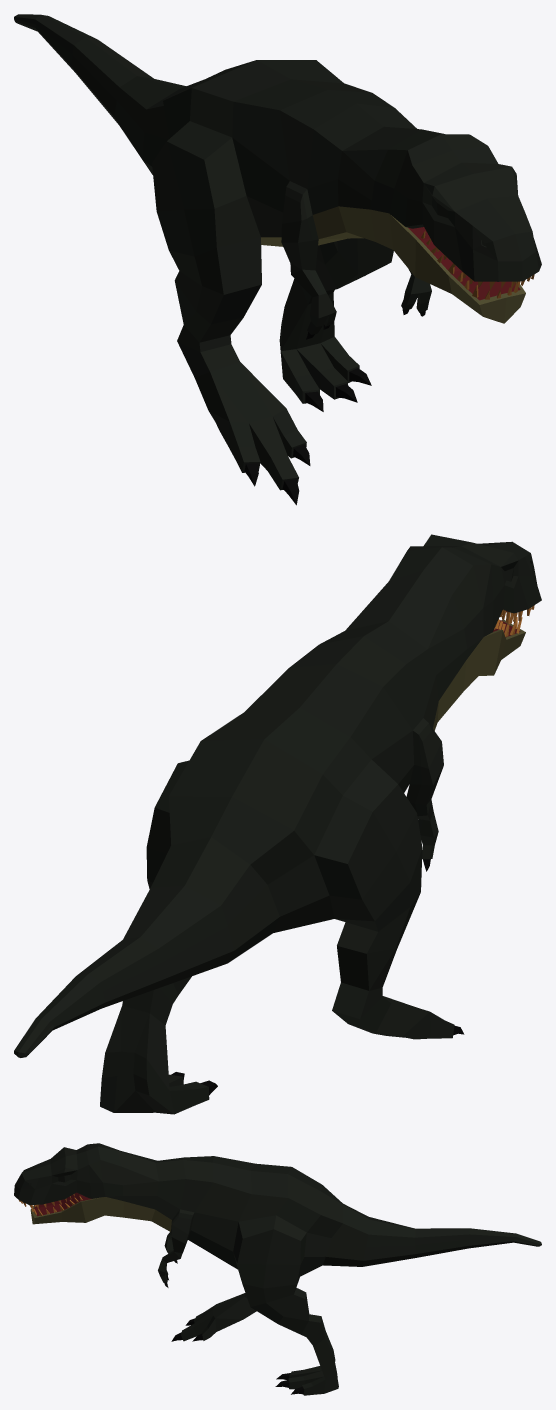
The model's file is Trex_000013.obj.
3 views of the same model, one above another, from view 1: azimuth 30°, elevation 25°; view 2: azimuth 150°, elevation 25°; view 3: azimuth 270°, elevation 25° (orthographic). The views are drawn at different scales.
Visible parts, largest first — view 1: Trex_Cylinder; view 2: Trex_Cylinder; view 3: Trex_Cylinder.
Part boxes in pixels (bbox=[...]): Trex_Cylinder: bbox=[14, 14, 541, 505]; Trex_Cylinder: bbox=[14, 534, 541, 1114]; Trex_Cylinder: bbox=[14, 1143, 541, 1395].
Bounding box in the file's own units: 8.08 × 14.47 × 31.45.
